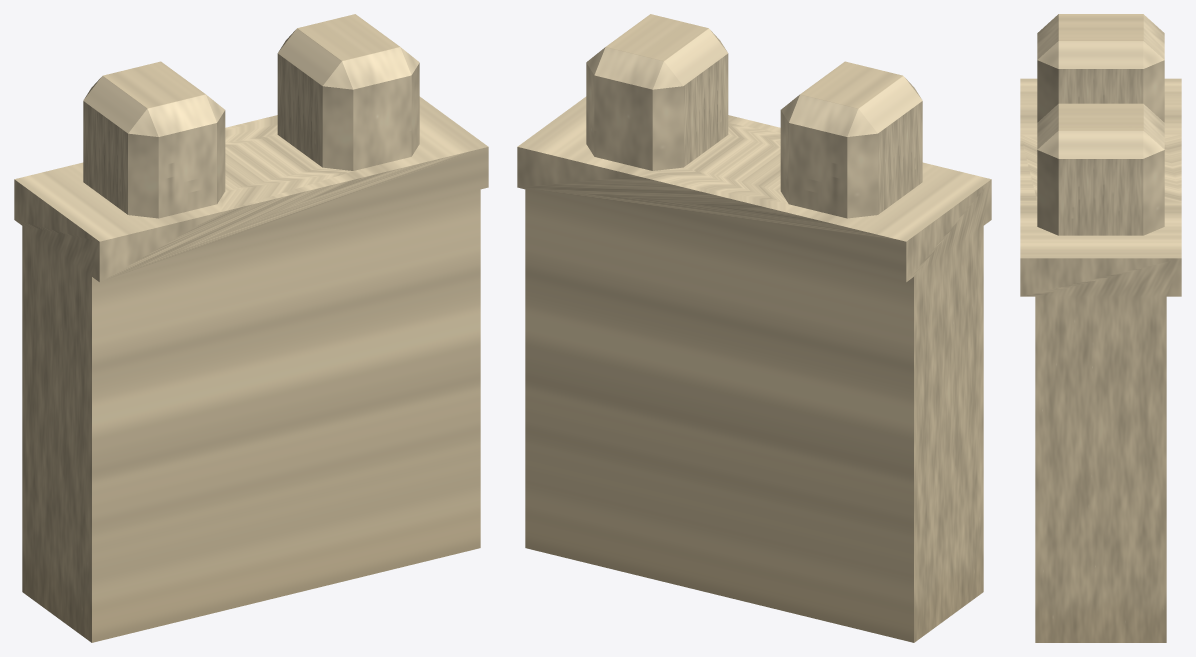
3 renders of one model, left to right at view 1: azimuth 30°, elevation 25°; view 2: azimuth 150°, elevation 25°; view 3: azimuth 270°, elevation 25°, orthographic. The views are drawn at different scales.
Parts seen in each view (by area): view 1: wall; view 2: wall; view 3: wall.
Boxes of the visible parts, <box> form: wall: <box>14,14,488,642</box>; wall: <box>517,14,991,642</box>; wall: <box>1020,14,1181,642</box>.
Size of the model in its own units: 1 by 1.25 by 0.38.
Materials: 1 (1 with a texture image).
